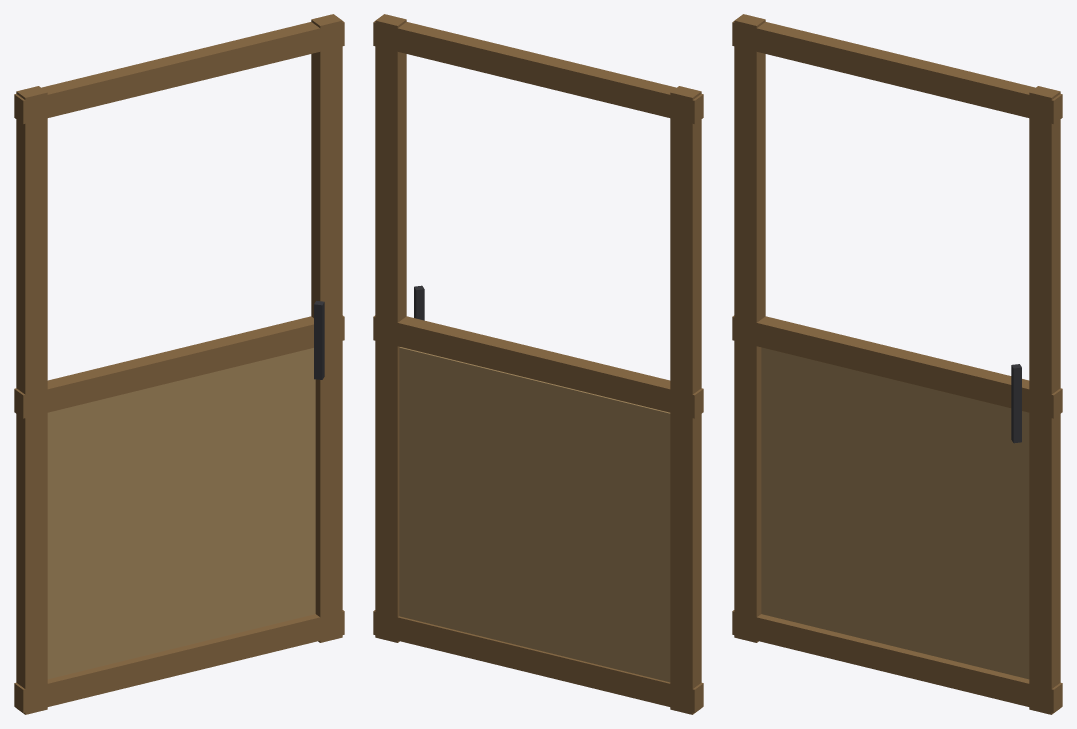
File: Prop_Release_Crate_Door_LOD1.glb
The picture shows the model from 3 angles, left to right: view 1: azimuth 30°, elevation 25°; view 2: azimuth 150°, elevation 25°; view 3: azimuth 330°, elevation 25°; orthographic projection.
Parts seen in each view (by area): view 1: Prop_Release_Crate_Door; view 2: Prop_Release_Crate_Door; view 3: Prop_Release_Crate_Door.
Part boxes in pixels (x1,y1,x2,y2): Prop_Release_Crate_Door: (14,14,344,714); Prop_Release_Crate_Door: (373,14,703,714); Prop_Release_Crate_Door: (732,14,1062,714).
Size of the model in its own units: 0.72 by 1.32 by 0.0695.
